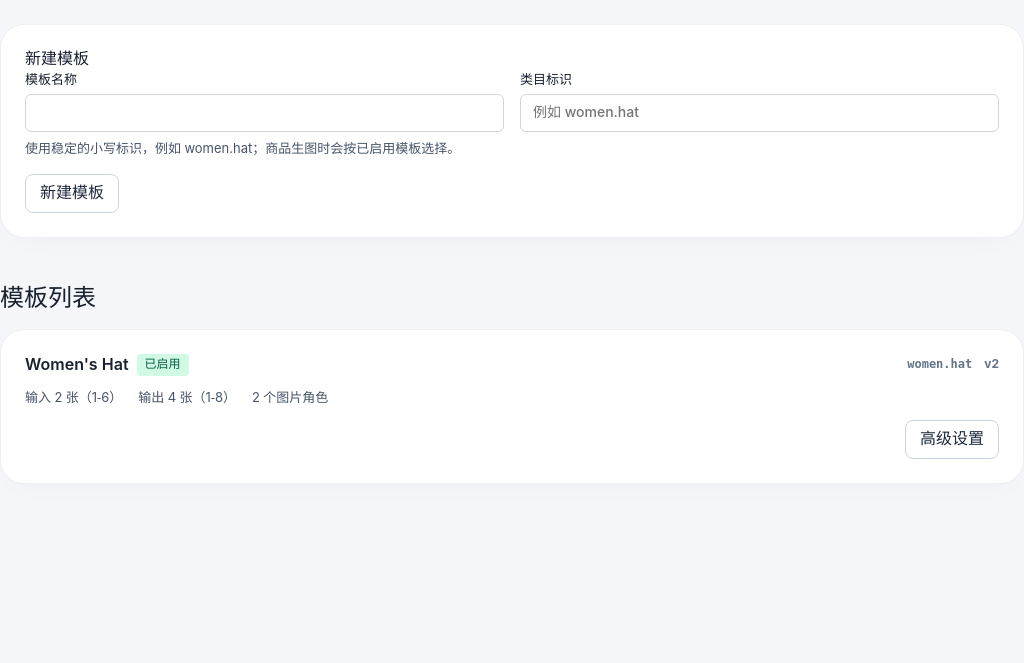
Scenario: ImageGenerationTemplateManager › edits advanced fields by appending a new immutable draft version
Click the button "高级设置": [952, 439] box [905, 420, 999, 459]
(page scrolled)
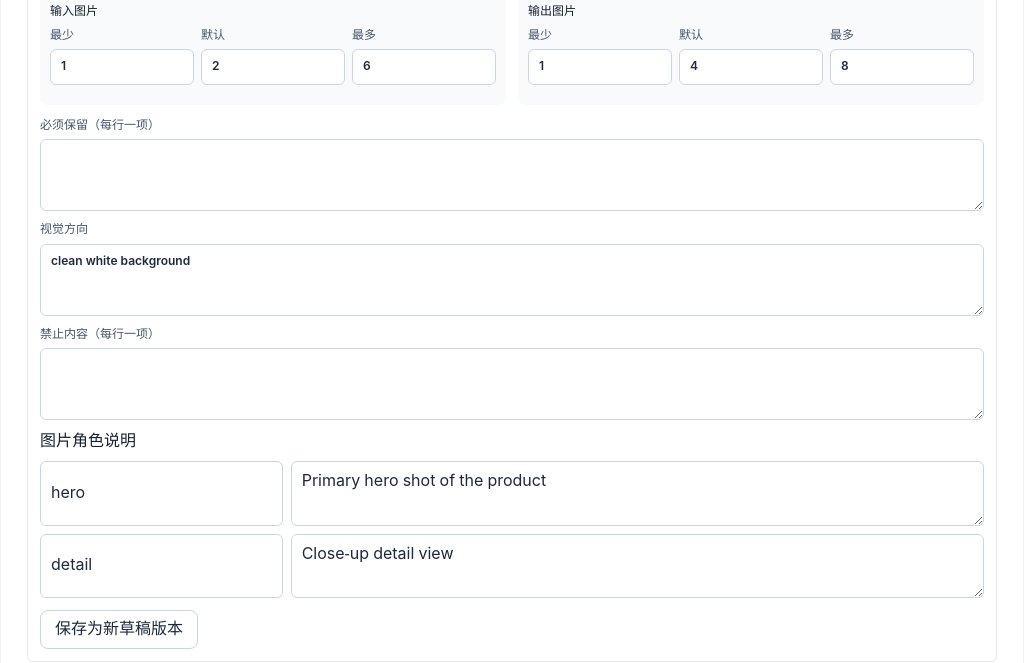
Replace the text in the text box labelled "视觉方向" with "海边度假场景，保留帽檐结构": [512, 280] box [40, 244, 984, 316]
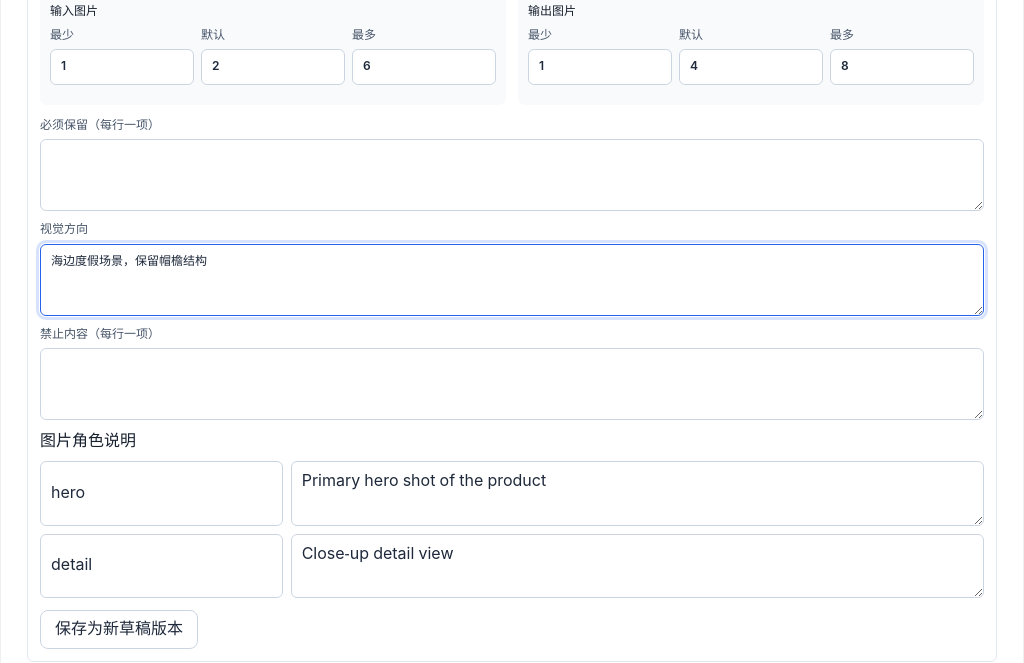
Click the button "保存为新草稿版本": [119, 630] box [40, 610, 198, 649]
(page scrolled)
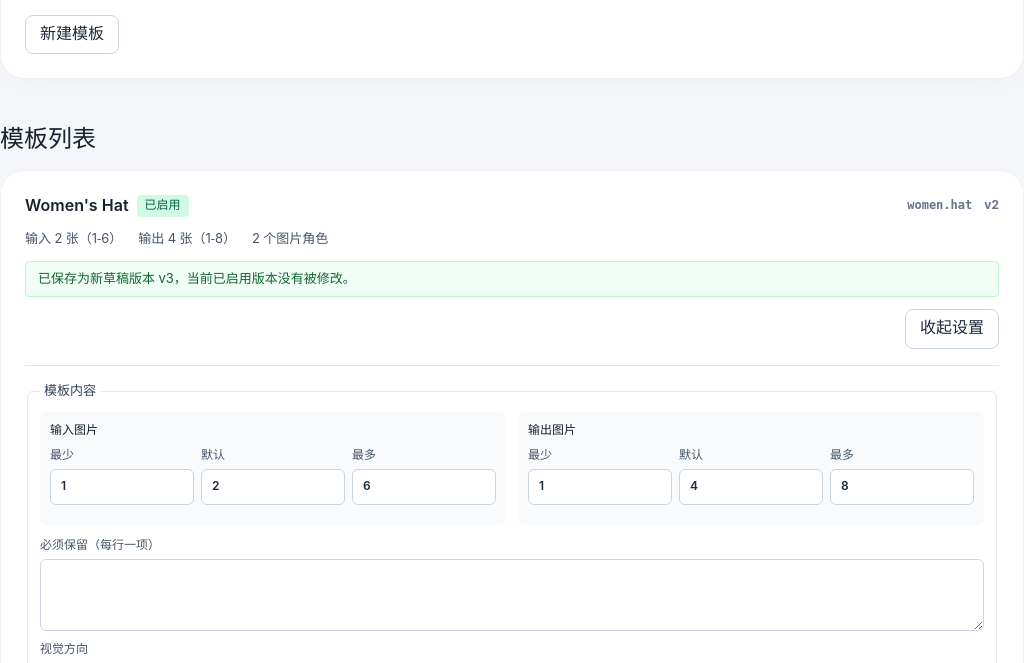
Expected: the text "已保存为新草稿版本 v3，当前已启用版本没有被修改。" is shown, [25, 261, 999, 297]
